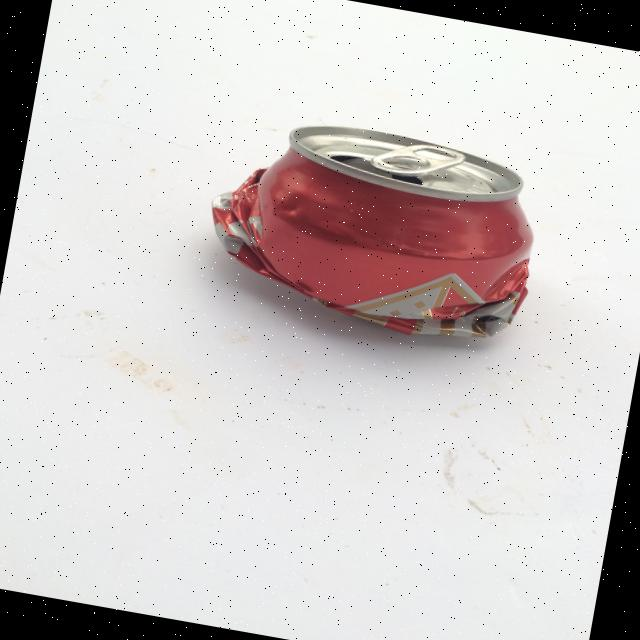metal: (194, 103, 552, 354)
